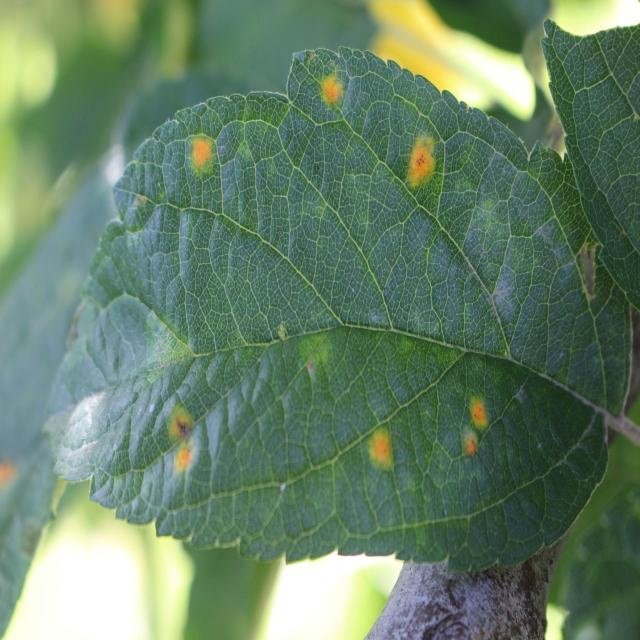Rust: (151, 402, 210, 500), (362, 405, 408, 505), (456, 371, 494, 469), (401, 123, 448, 194), (307, 59, 353, 125), (188, 115, 224, 185)
